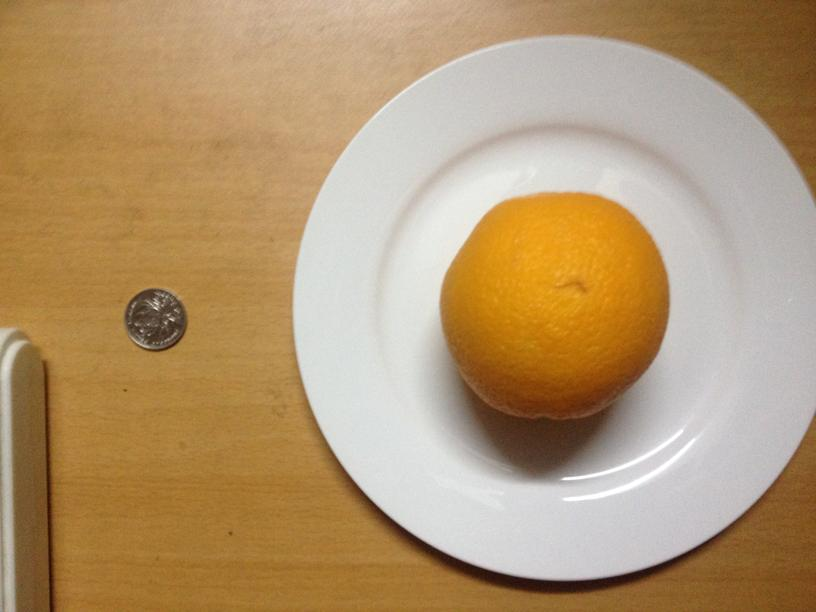coin: (123, 288, 187, 349)
orange: (439, 193, 671, 417)
